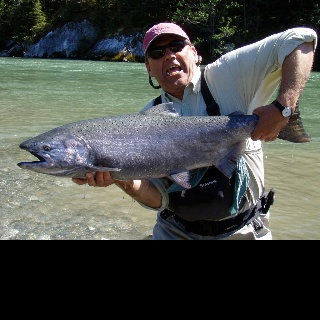without_mask: (150, 35, 195, 91)
